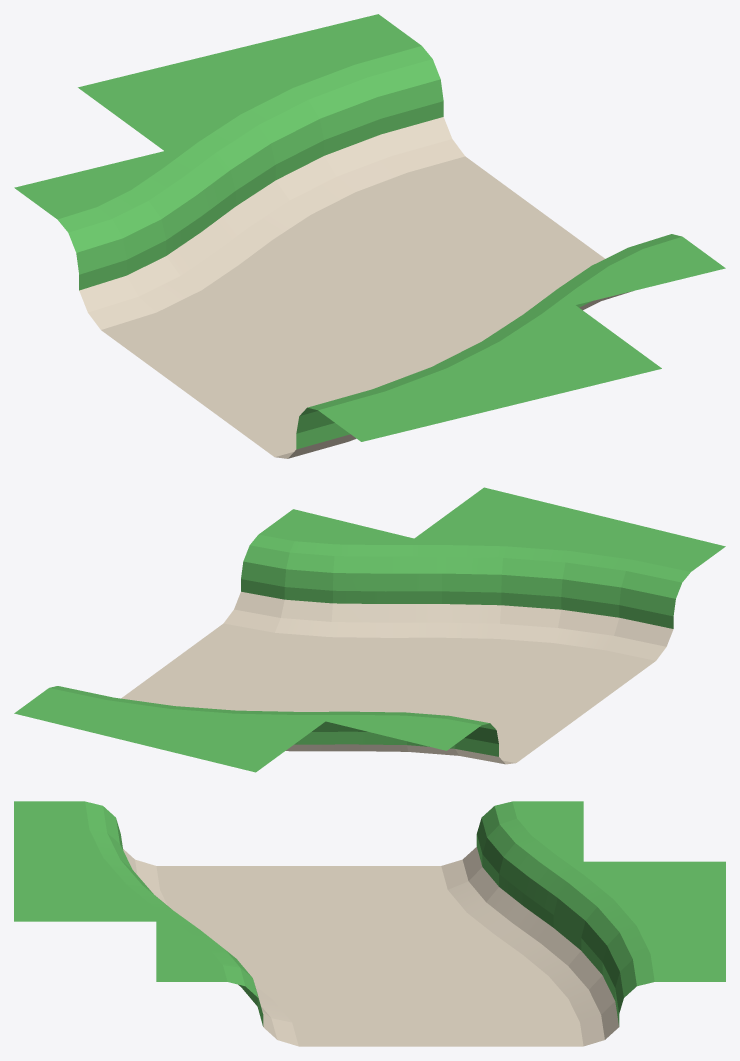
The model's file is Track Modification.fbx.
The picture shows the model from 3 angles, top to bottom: view 1: azimuth 30°, elevation 25°; view 2: azimuth 150°, elevation 25°; view 3: azimuth 270°, elevation 25°; orthographic projection. The views are drawn at different scales.
Visible parts, largest first — view 1: Dirt.001, Grass.001; view 2: Grass.001, Dirt.001; view 3: Dirt.001, Grass.001.
Part boxes in pixels (x1,y1,x2,y2): Dirt.001: (79, 117, 632, 458); Grass.001: (14, 14, 725, 449); Grass.001: (14, 487, 725, 772); Dirt.001: (121, 591, 673, 764); Dirt.001: (123, 847, 618, 1046); Grass.001: (14, 801, 725, 1026).
Size of the model in its own units: 300 by 50 by 500.
